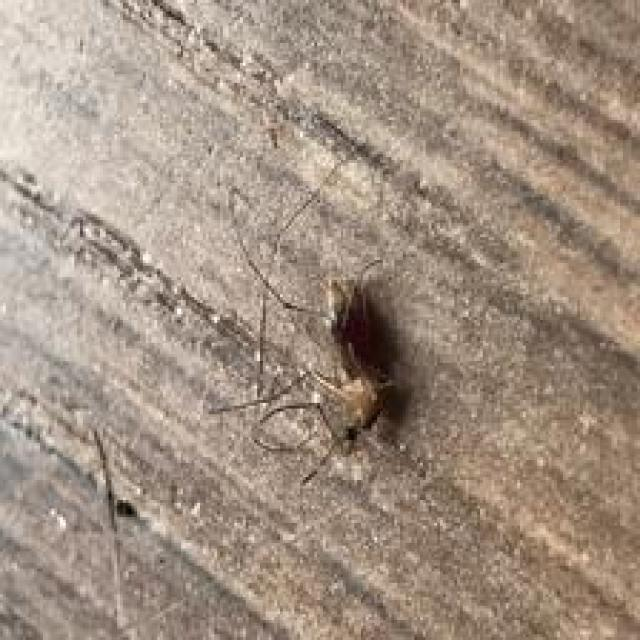Culex: (207, 256, 402, 487)
